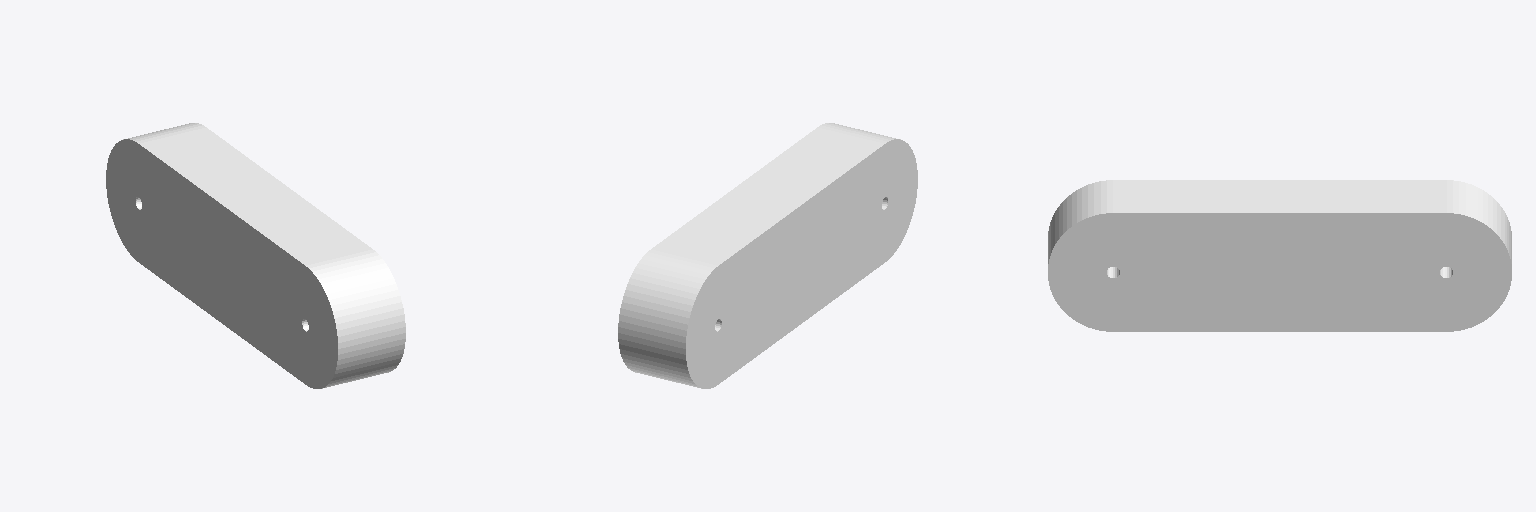
The model's file is brazo_izq_trasero.obj.
3 renders of one model, left to right at view 1: azimuth 30°, elevation 25°; view 2: azimuth 150°, elevation 25°; view 3: azimuth 270°, elevation 25°, orthographic.
Parts seen in each view (by area): view 1: Object.1; view 2: Object.1; view 3: Object.1.
Part boxes in pixels (bbox=[...]): Object.1: bbox=[106, 123, 405, 388]; Object.1: bbox=[618, 123, 917, 388]; Object.1: bbox=[1048, 180, 1511, 331].
Bounding box in the file's own units: 75 × 126 × 446.